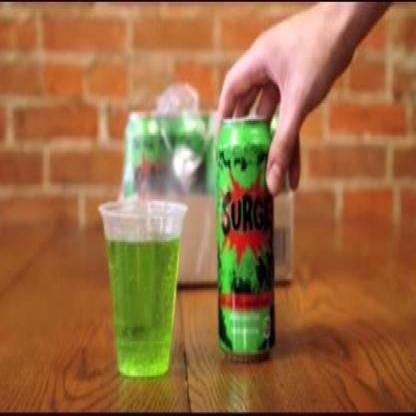alumunium_can: (215, 114, 277, 364)
objects: (99, 198, 188, 380)
